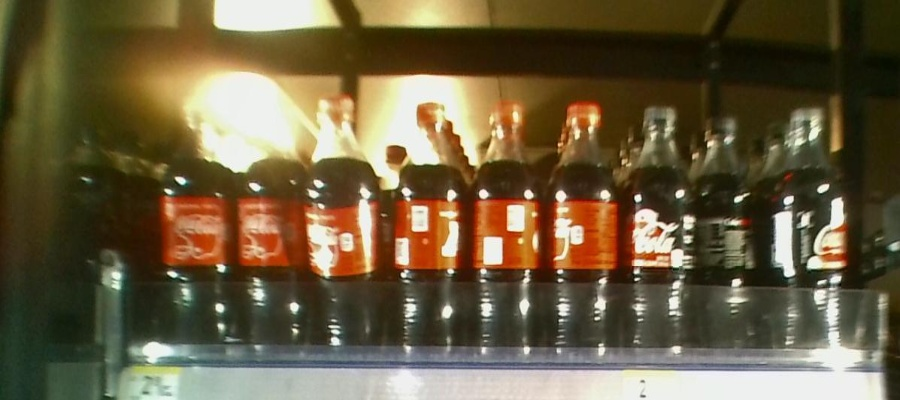bottle: (768, 98, 845, 377), (231, 110, 308, 359), (548, 92, 613, 371), (394, 99, 461, 366), (625, 96, 691, 367), (153, 112, 226, 346), (475, 95, 537, 369), (314, 98, 376, 365), (698, 98, 756, 374)
